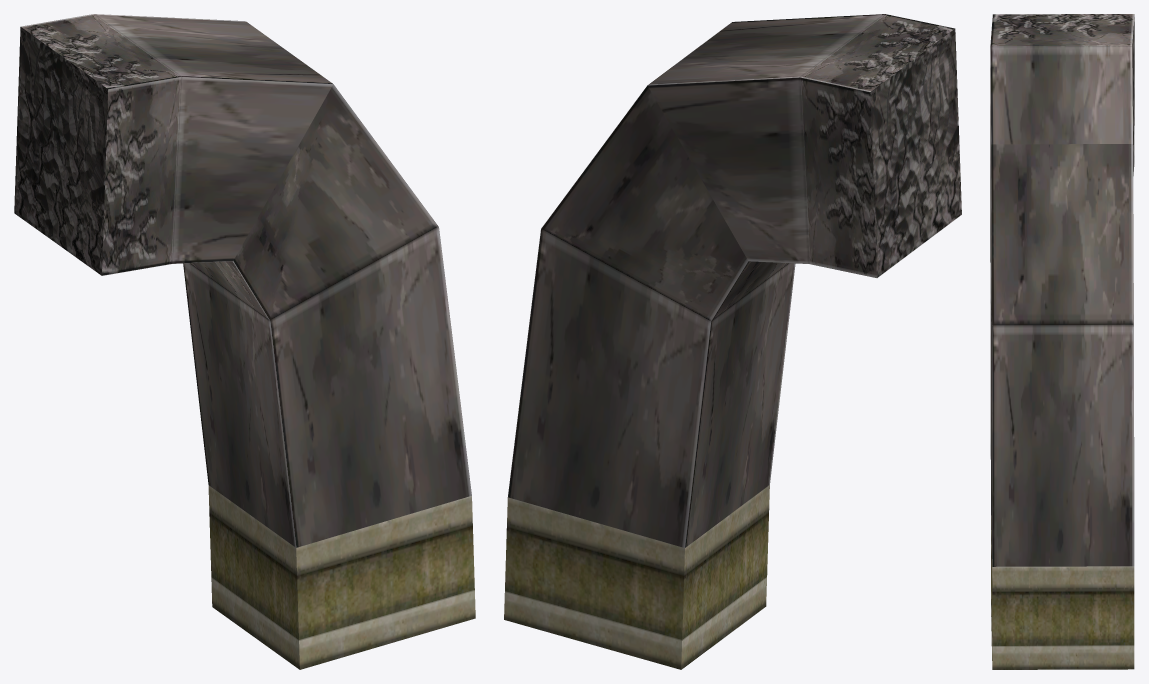
File: INST_SM_BUTTRESSES_BROKEN.fbx
The picture shows the model from 3 angles, left to right: view 1: azimuth 30°, elevation 25°; view 2: azimuth 150°, elevation 25°; view 3: azimuth 270°, elevation 25°; orthographic projection. The views are drawn at different scales.
Visible parts, largest first — view 1: INST_SM_BUTTRESSES_BROKEN; view 2: INST_SM_BUTTRESSES_BROKEN; view 3: INST_SM_BUTTRESSES_BROKEN.
Part boxes in pixels (x1,y1,x2,y2): INST_SM_BUTTRESSES_BROKEN: [14, 14, 475, 669]; INST_SM_BUTTRESSES_BROKEN: [504, 14, 961, 669]; INST_SM_BUTTRESSES_BROKEN: [990, 14, 1134, 669].
Size of the model in its own units: 37216 by 59389 by 15107.
4 materials, 4 textured.
